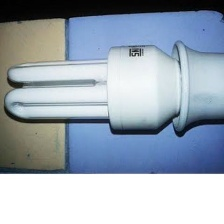light_bulb: (3, 41, 188, 137)
